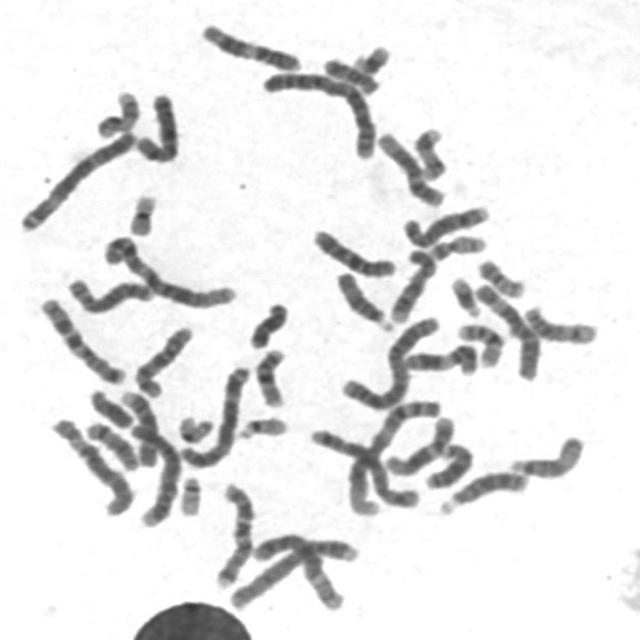A1: (340, 392, 448, 518), (95, 228, 240, 310)
A2: (253, 62, 381, 162), (335, 308, 443, 412)
A3: (11, 122, 140, 233), (173, 358, 254, 470)
B4: (227, 528, 356, 612), (122, 417, 182, 529)
B5: (301, 420, 423, 510), (246, 526, 349, 613)
C10: (304, 221, 399, 280), (127, 318, 196, 399)
C11: (193, 14, 304, 73), (397, 337, 482, 377)
C12: (371, 124, 448, 208), (378, 409, 457, 478)
C6: (42, 410, 137, 518), (469, 277, 543, 381)
C7: (32, 290, 128, 386), (207, 475, 258, 590)
C8: (395, 198, 494, 250), (60, 269, 157, 316)
C9: (384, 242, 440, 325), (112, 383, 162, 470)
D13: (433, 463, 531, 517), (418, 436, 477, 491)
D14: (517, 299, 601, 346), (77, 413, 142, 472)
D15: (329, 264, 397, 333), (502, 427, 588, 480)
E16: (449, 315, 507, 369), (248, 340, 290, 410)
E17: (89, 83, 143, 139), (406, 119, 450, 181)
E18: (316, 50, 383, 96), (241, 293, 292, 351)
F19: (120, 185, 160, 238), (176, 413, 216, 445)
F20: (470, 252, 528, 300), (421, 228, 488, 262)
G21: (443, 268, 484, 318), (346, 38, 394, 76)
G22: (230, 408, 291, 442), (172, 469, 204, 517)
X: (128, 84, 182, 164)
Y: (82, 381, 136, 430)
